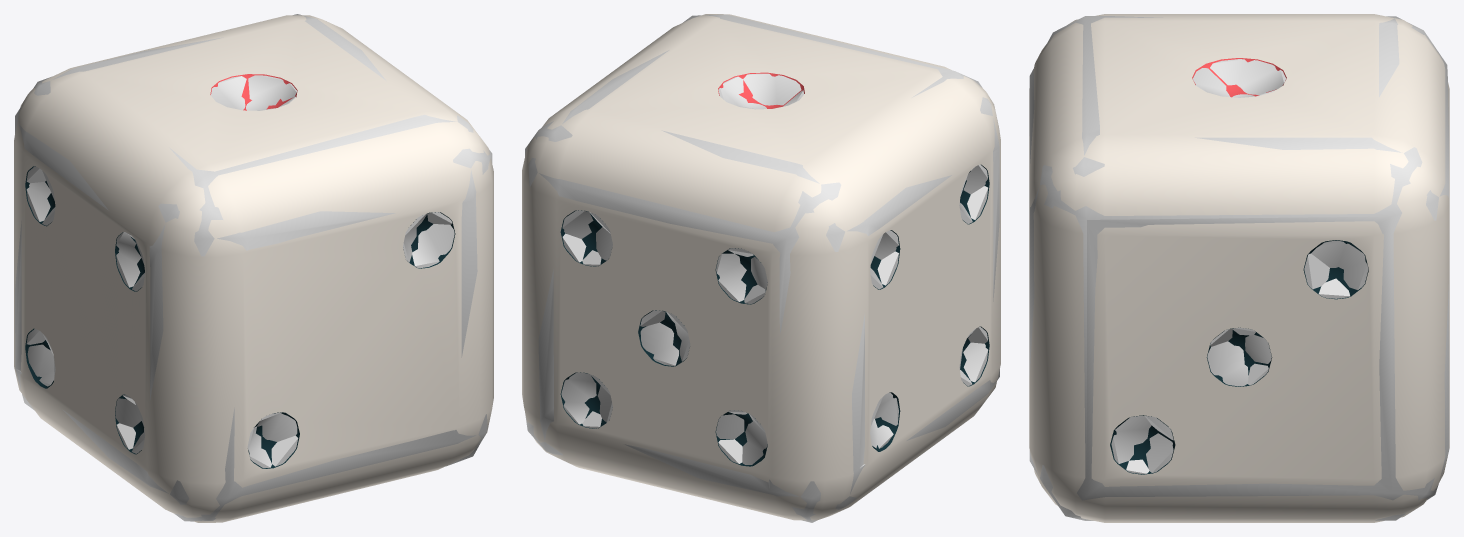
Rendered from die.glb.
The picture shows the model from 3 angles, left to right: view 1: azimuth 30°, elevation 25°; view 2: azimuth 150°, elevation 25°; view 3: azimuth 270°, elevation 25°; orthographic projection. The views are drawn at different scales.
Visible parts, largest first — view 1: die, shadow; view 2: die, shadow; view 3: die, shadow.
Part boxes in pixels (x1,y1,x2,y2): die: (14, 15, 493, 522); shadow: (15, 14, 492, 521); die: (522, 14, 1000, 520); shadow: (525, 14, 999, 522); die: (1029, 14, 1449, 522); shadow: (1029, 16, 1448, 520).
Size of the model in its own units: 0.5 by 0.5 by 0.5.
